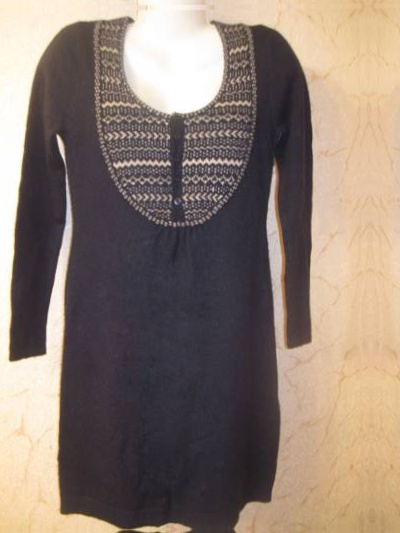Dress: (0, 22, 335, 527), (0, 532, 339, 533)
